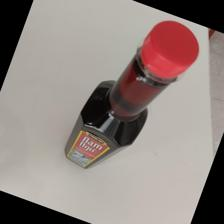Namngu: (61, 19, 200, 173)
